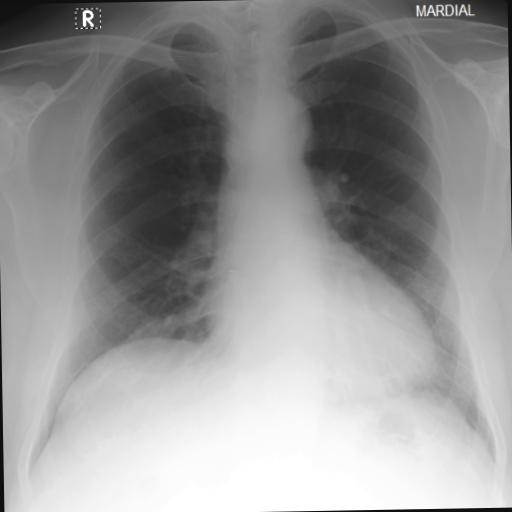kardiomegali: (13, 0, 512, 482)
